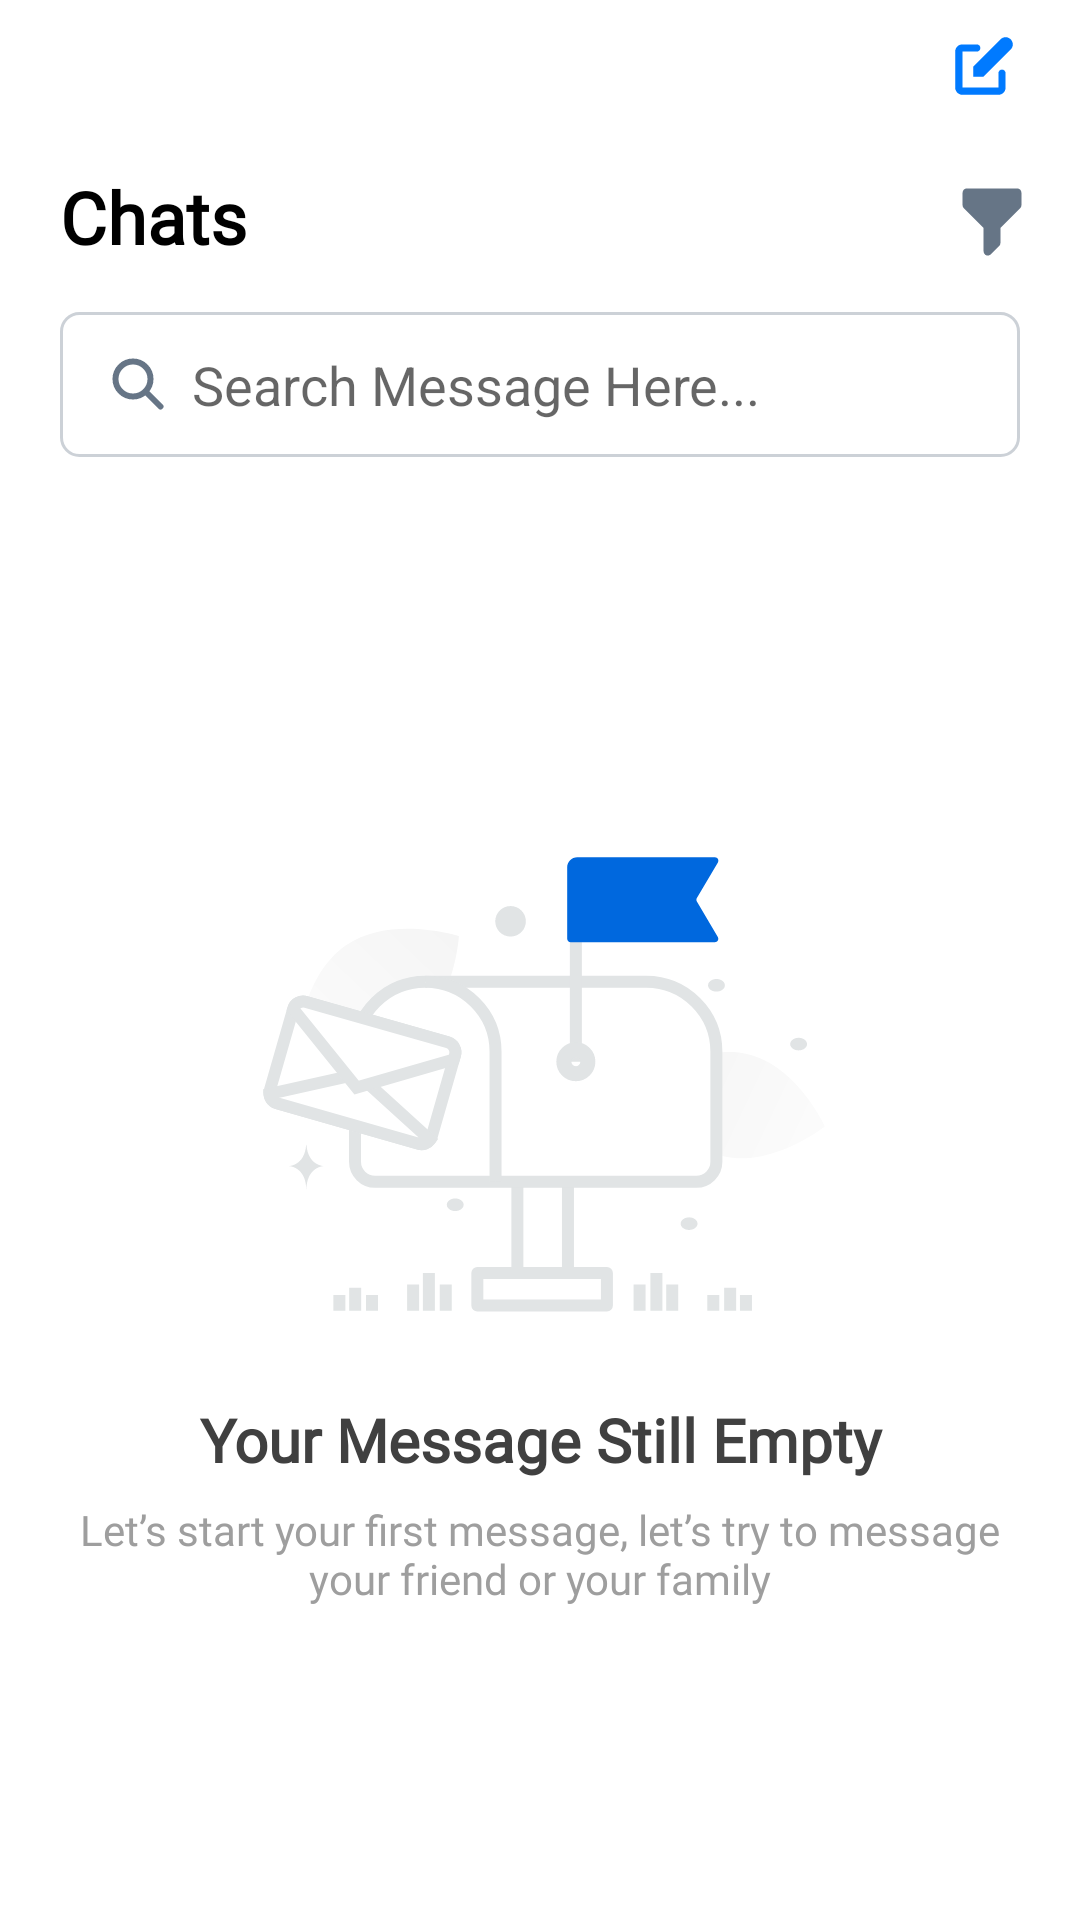

Icon bounding boxes for this 1080px×1920px phone screenshot, format [left=x1, top=y1, right=x2, bottom=y2]:
create msg: [left=955, top=37, right=1013, bottom=95]
filter: [left=962, top=188, right=1022, bottom=256]
